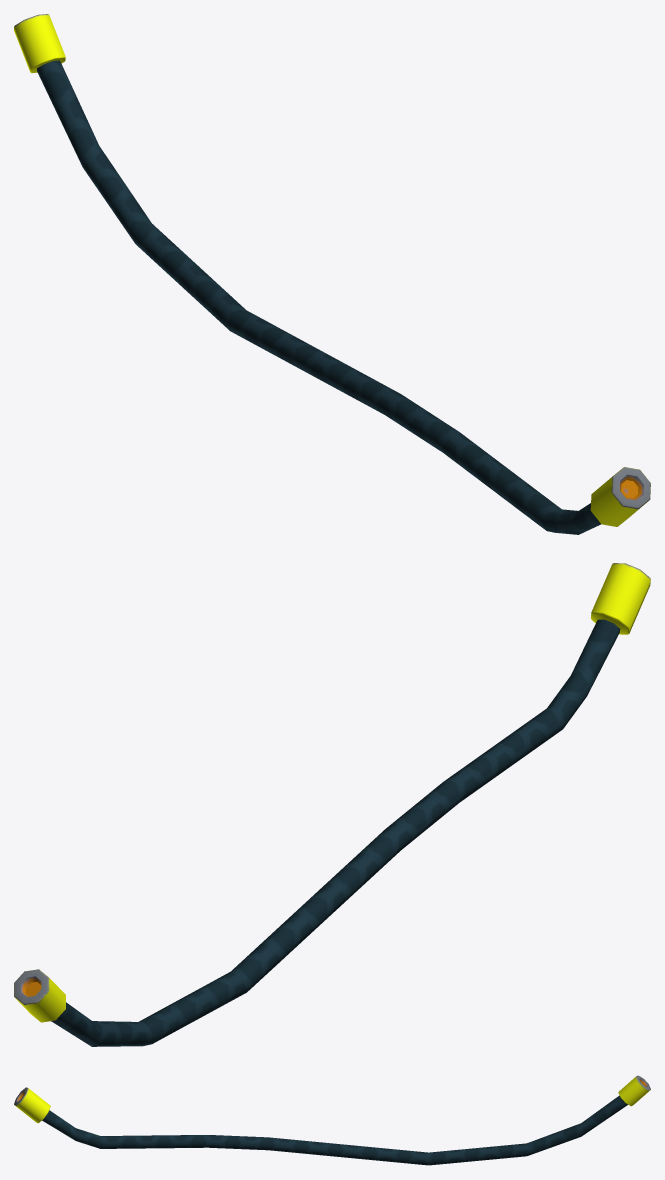
3 views of the same model, one above another, from view 1: azimuth 30°, elevation 25°; view 2: azimuth 150°, elevation 25°; view 3: azimuth 270°, elevation 25° (orthographic). The views are drawn at different scales.
Visible parts, largest first — view 1: SM_Tube_02; view 2: SM_Tube_02; view 3: SM_Tube_02.
Boxes of the visible parts, left/top/right/bottom form: SM_Tube_02: left=14, top=14, right=650, bottom=534; SM_Tube_02: left=14, top=563, right=650, bottom=1046; SM_Tube_02: left=14, top=1075, right=650, bottom=1165.
Bounding box in the file's own units: 10.01 × 271 × 41.61.
Materials: 1 (1 with a texture image).
